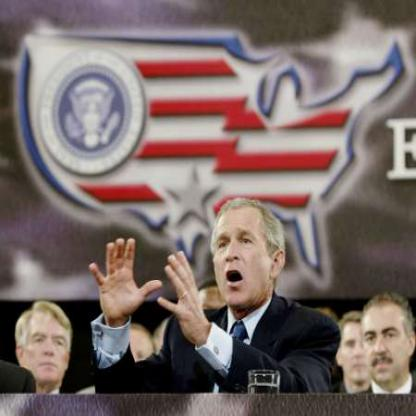face: (205, 201, 276, 307), (362, 298, 412, 385), (23, 306, 76, 384), (340, 316, 377, 384)
